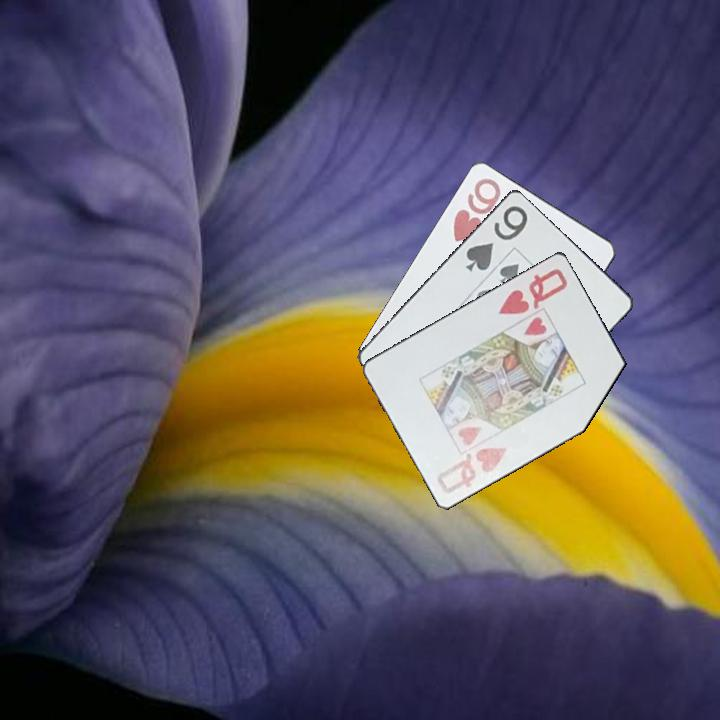9h: (449, 174, 504, 245)
9s: (461, 201, 531, 275)
Qh: (495, 262, 573, 317), (434, 443, 510, 496)
